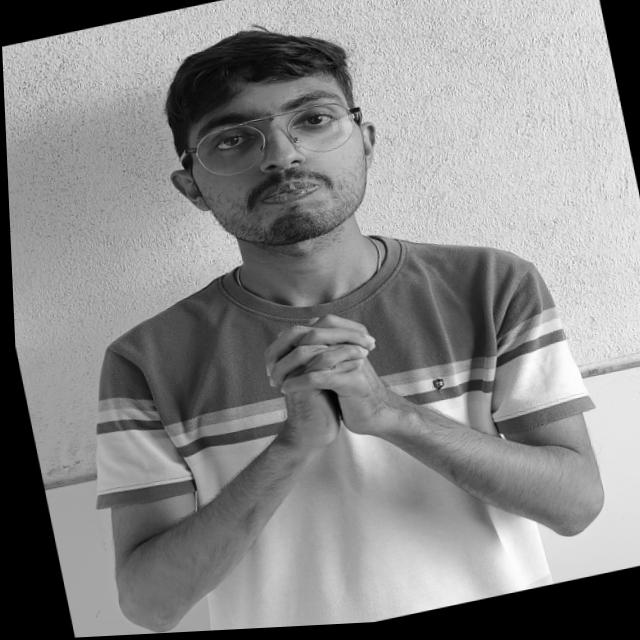Sorry: (192, 283, 469, 526)
